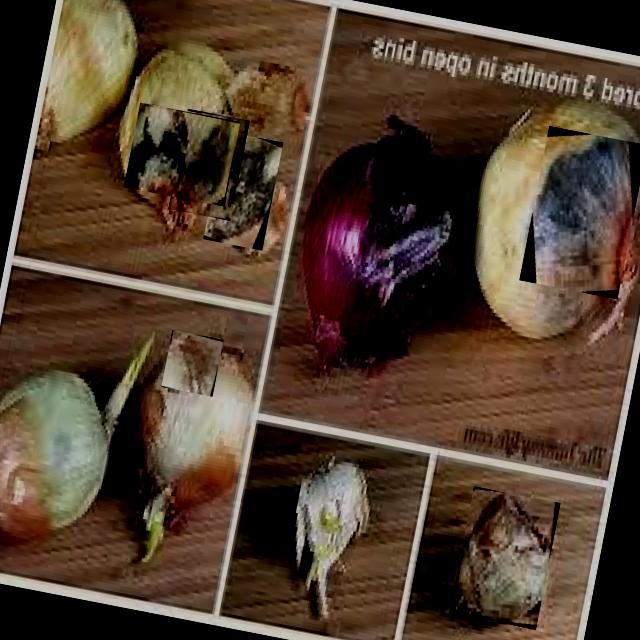rotten: (519, 126, 640, 299), (124, 102, 240, 206), (459, 494, 552, 622), (203, 132, 283, 250), (168, 109, 250, 221), (162, 330, 224, 397)
